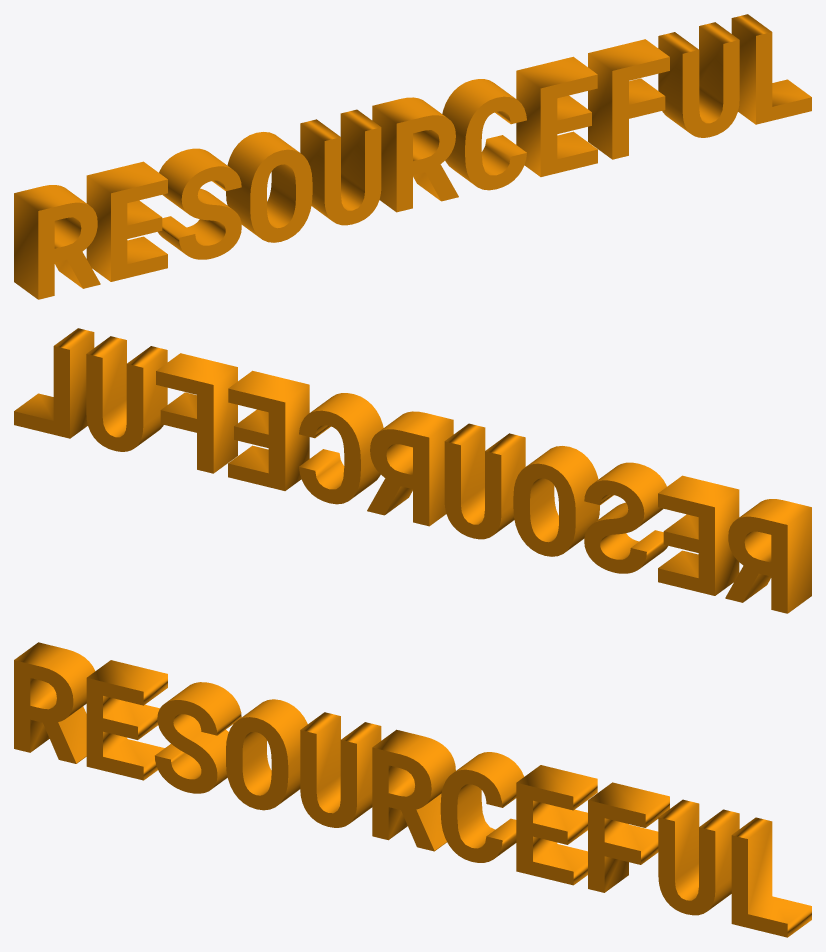
Rendered from Resourceful.fbx.
3 renders of one model, top to bottom at view 1: azimuth 30°, elevation 25°; view 2: azimuth 150°, elevation 25°; view 3: azimuth 330°, elevation 25°, orthographic.
Parts seen in each view (by area): view 1: $ColladaAutoName$_1; view 2: $ColladaAutoName$_1; view 3: $ColladaAutoName$_1.
Part boxes in pixels (x1=…): $ColladaAutoName$_1: x1=14, y1=14, x2=811, y2=299; $ColladaAutoName$_1: x1=14, y1=328, x2=811, y2=613; $ColladaAutoName$_1: x1=14, y1=642, x2=811, y2=937.
Bounding box in the file's own units: 900 × 102 × 49.
